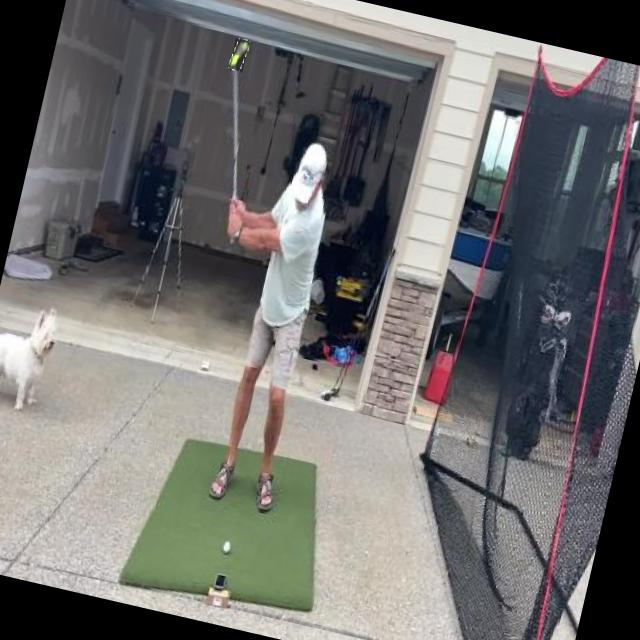club head: (228, 38, 249, 72)
